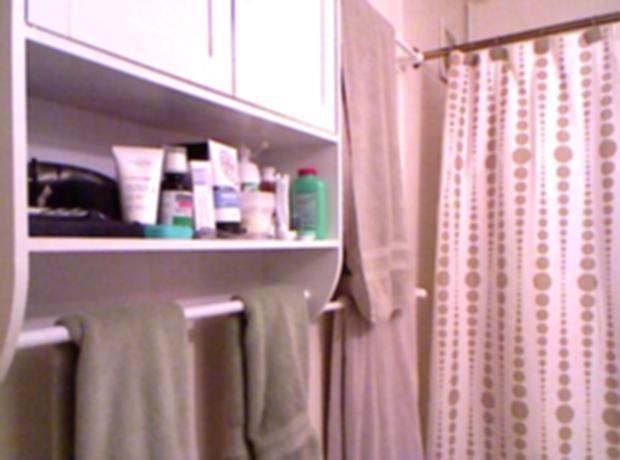Ducha: (409, 42, 616, 457)
